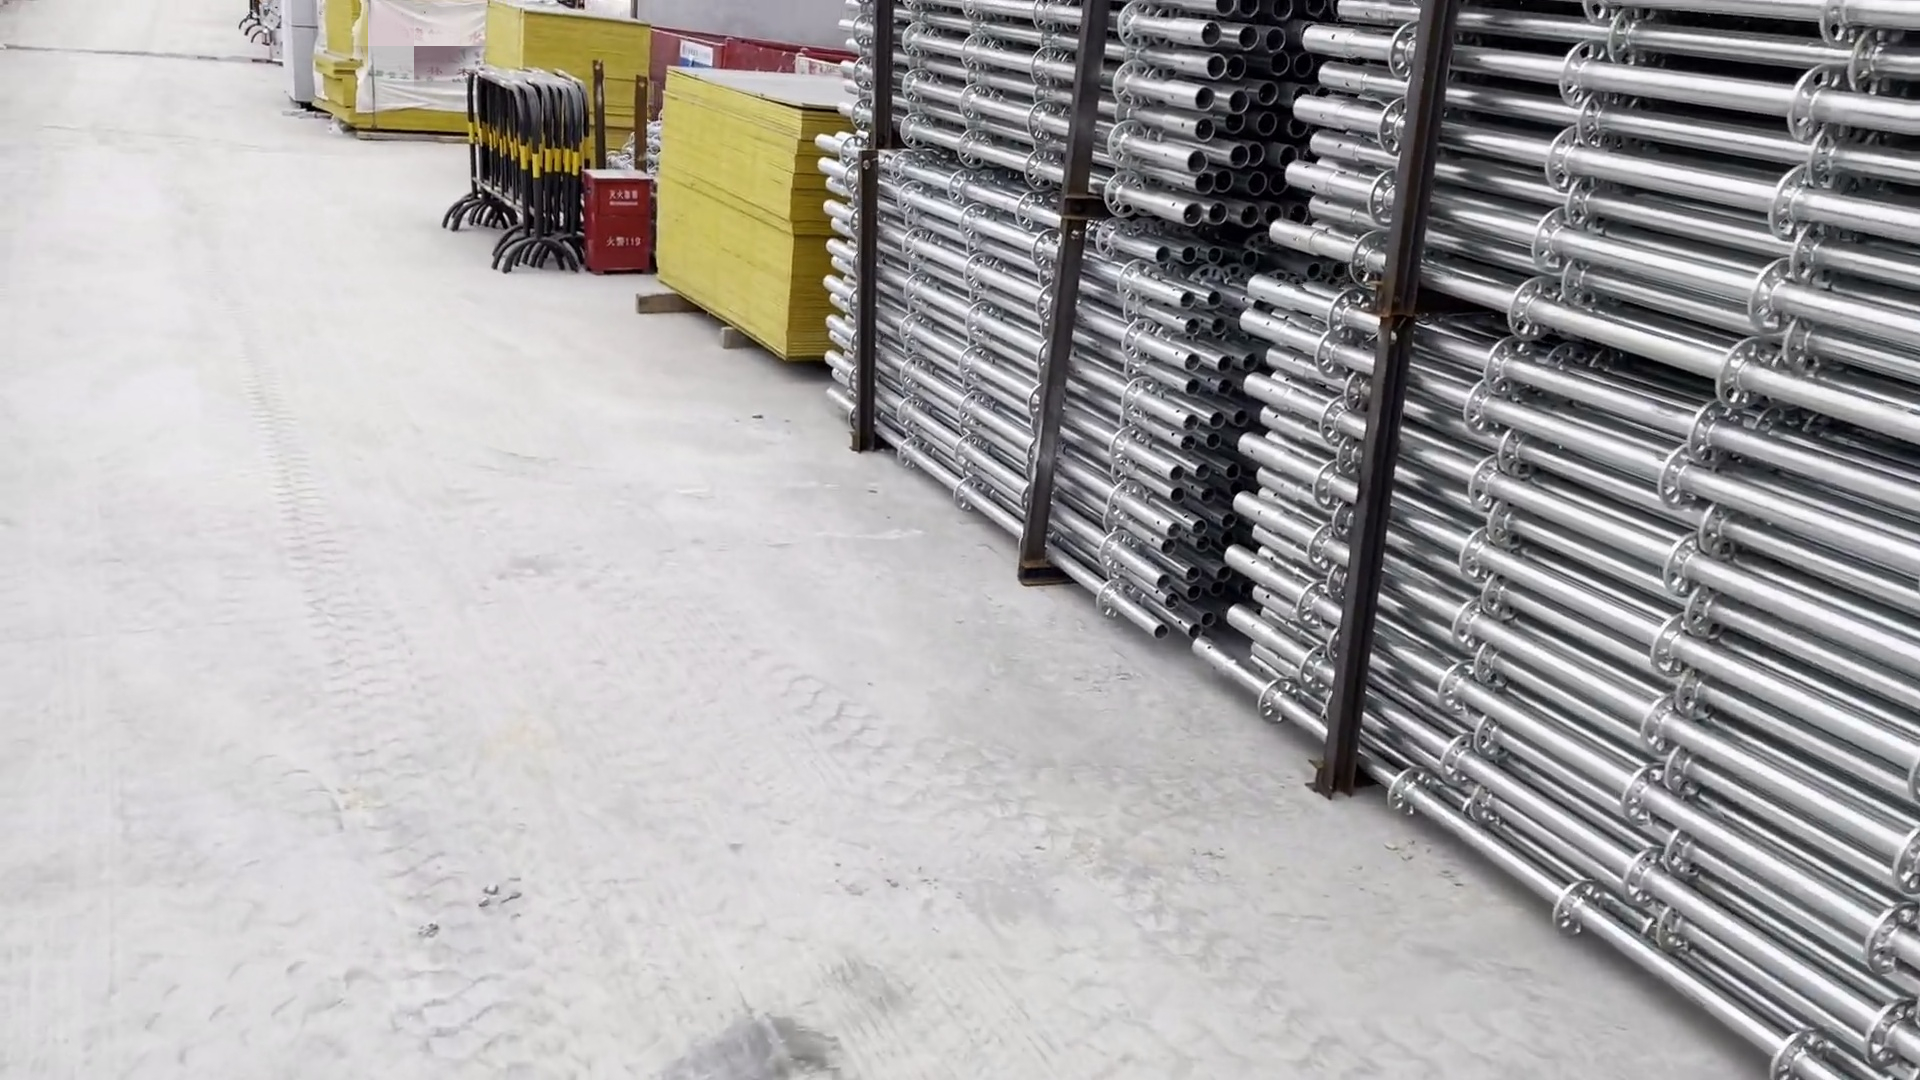board: (632, 49, 856, 375), (315, 1, 493, 156), (473, 1, 644, 132)
scaffold: (1308, 1, 1912, 1080), (833, 1, 1311, 680)
